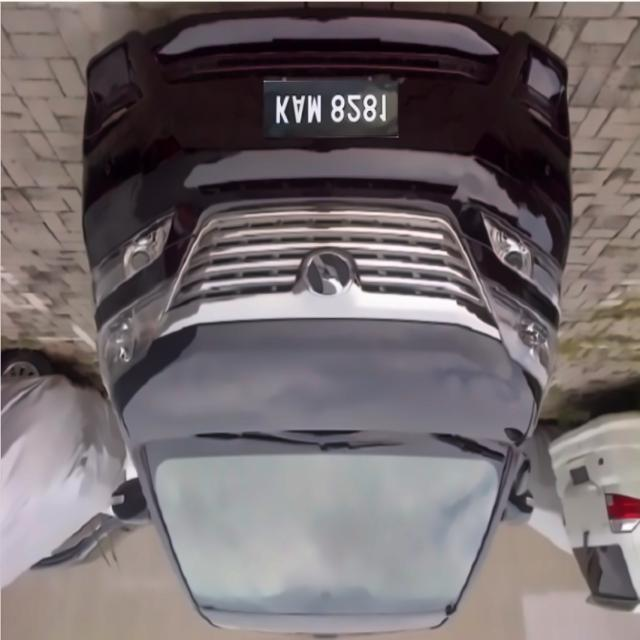car-plate: (264, 77, 399, 136)
